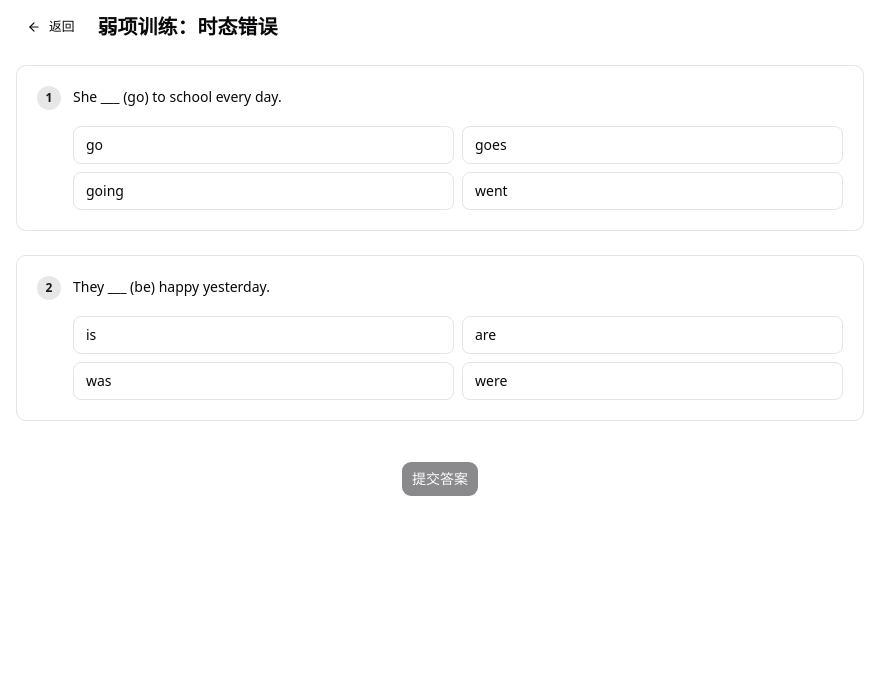
Scenario: ExercisePage › displays score after submitting answers in review phase
The image size is (881, 684).
Expected: the button "提交答案" is shown, [401,461,479,497]
Note: Select the correct answer for the first question (click the "goes" option)
Click the button "goes": point(491, 144) [462,126,843,164]
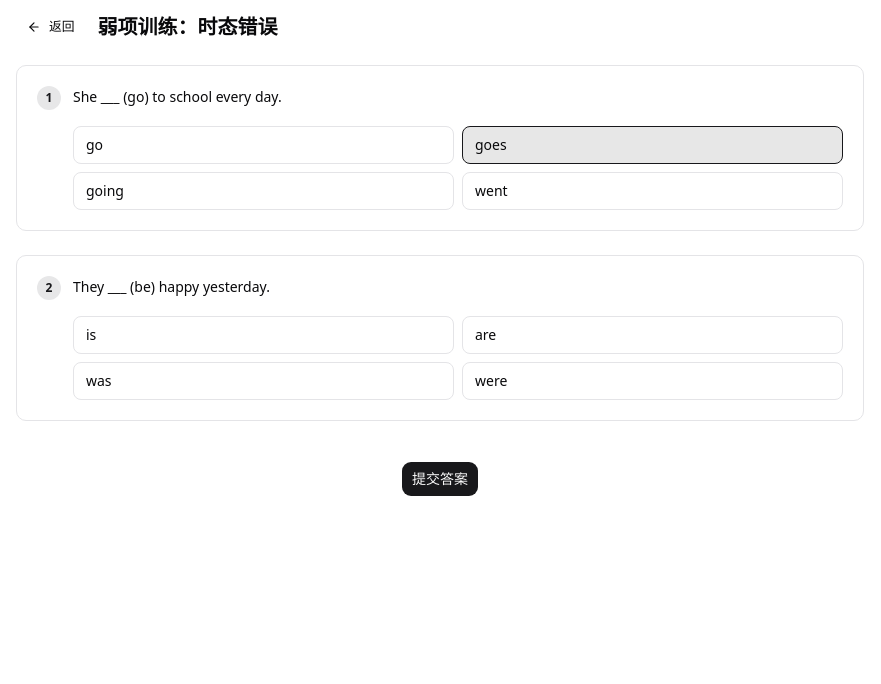
Click the button "提交答案": point(440, 479) [401,461,479,497]
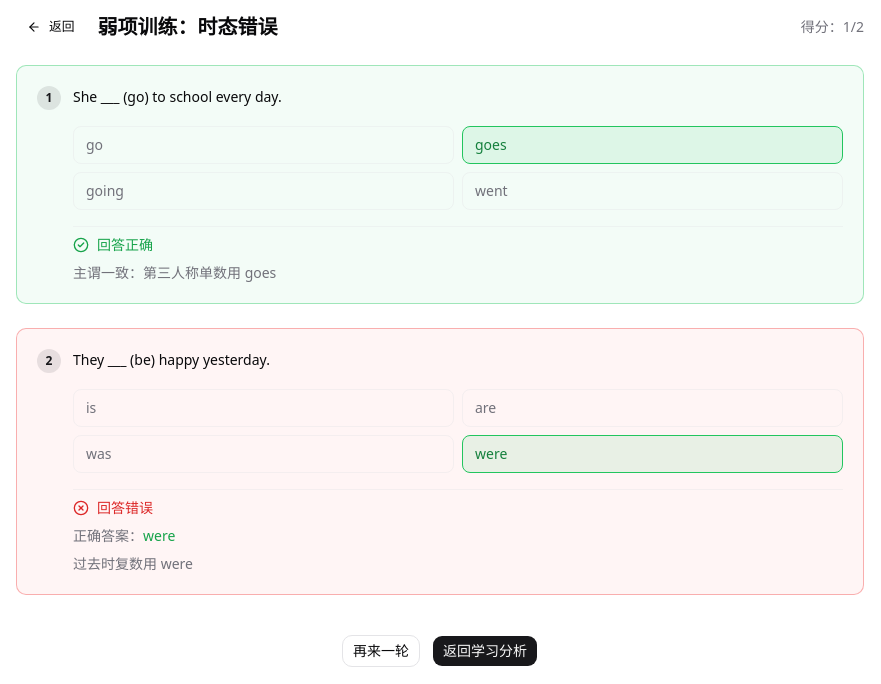
Result: the text "得分：1/2" is shown at [801,17,864,37]
Result: the button "再来一轮" is shown at [342,635,420,667]
Result: the button "返回学习分析" is shown at [432,635,538,667]
